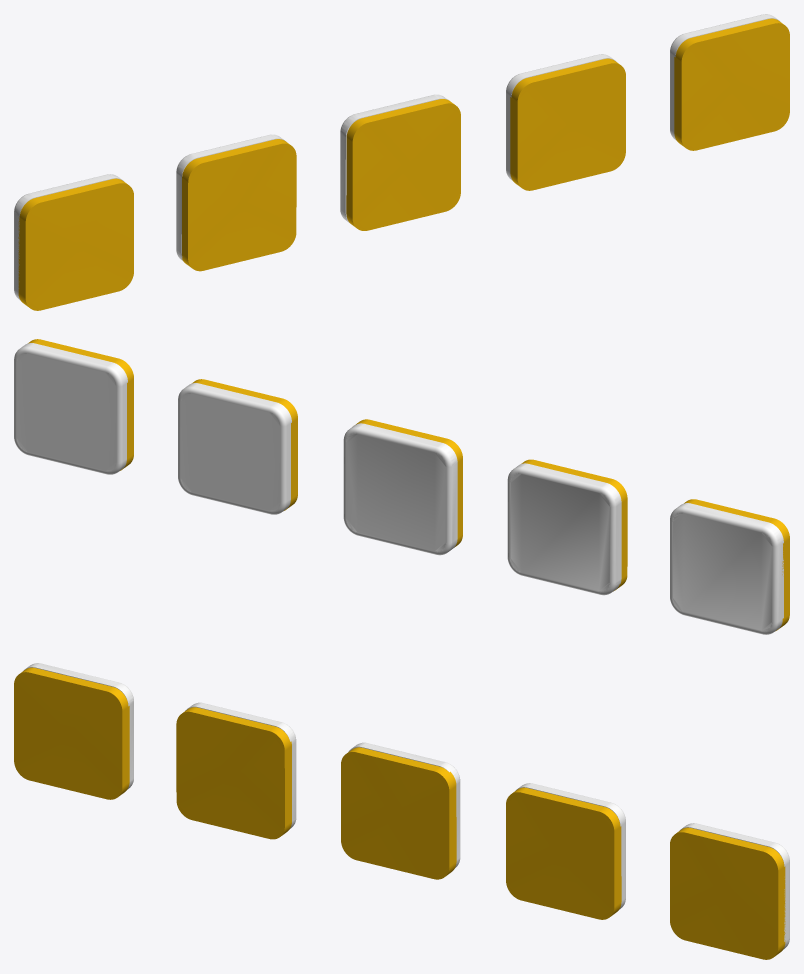
Rendered from yellow.glb.
3 views of the same model, one above another, from view 1: azimuth 30°, elevation 25°; view 2: azimuth 150°, elevation 25°; view 3: azimuth 330°, elevation 25° (orthographic).
Parts seen in each view (by area): view 1: Product.008; view 2: Product.008; view 3: Product.008.
Part boxes in pixels (x1,y1,x2,y2): Product.008: [14, 14, 789, 310]; Product.008: [14, 339, 789, 634]; Product.008: [14, 663, 789, 959].
Bounding box in the file's own units: 0.1481 × 0.0201 × 0.00452.
2 materials, 1 textured.
